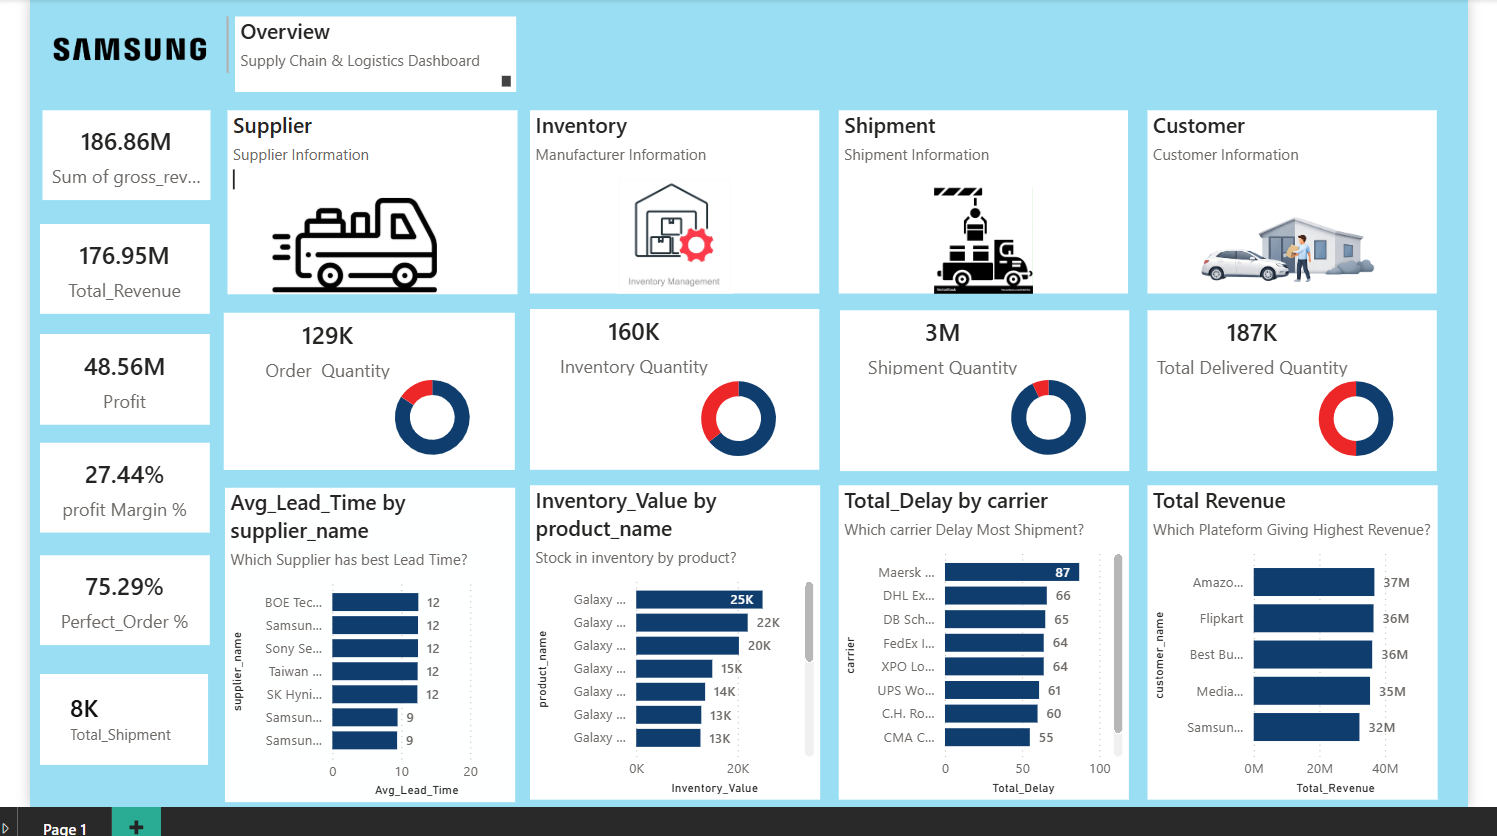

This screenshot's page, from the dashboard's own definition file:
{"tool":"powerbi","page":{"name":"Page 1","canvas":[1280,720],"ordinal":0},"visuals":[{"type":"textbox","title":"Supplier","box":[175.5,99.4,257.7,163.2],"z":1000},{"type":"textbox","title":"Inventory","box":[445.4,99.4,257.7,163.2],"z":2000},{"type":"textbox","title":"Shipment","box":[720.2,99.4,257.7,163.2],"z":3000},{"type":"textbox","title":"Customer","box":[995.1,99.4,257.7,163.2],"z":4000},{"type":"textbox","title":"Overview","box":[182.8,16,250.3,67.5],"z":5000},{"type":"shape","box":[150.9,16,49.1,50.3],"z":6000},{"type":"card","fields":{"Values":["MeasuresTable.Total_Revenue"]},"box":[8.6,200,150.9,79.8],"z":7000},{"type":"card","fields":{"Values":["MeasuresTable.Profit"]},"box":[8.6,298.2,150.9,81],"z":8000},{"type":"card","fields":{"Values":["MeasuresTable.profit Margin %"]},"box":[8.6,395.1,150.9,79.8],"z":9000},{"type":"card","fields":{"Values":["MeasuresTable.Perfect_Order %"]},"box":[8.6,495.7,150.9,79.8],"z":10000},{"type":"cardVisual","fields":{"Data":["Measure.Total_Shipment"]},"box":[8.6,601.2,149.7,81],"z":11000},{"type":"shape","box":[173,279.8,258.9,139.9],"z":12000},{"type":"clusteredBarChart","fields":{"Y":["MeasuresTable.Avg_Lead_Time"],"Category":["dim_supplier.supplier_name"]},"box":[173.3,435,258.3,280],"z":13000},{"type":"clusteredBarChart","fields":{"Y":["MeasuresTable.Inventory_Value"],"Category":["dim_product.product_name"]},"box":[445,433.3,258,280],"z":14000},{"type":"clusteredBarChart","fields":{"Y":["MeasuresTable.Total_Delay"],"Category":["fact_shipment.carrier"]},"box":[720,433.3,258,280],"z":15000},{"type":"shape","box":[995.1,277.3,257.7,143.6],"z":16000},{"type":"clusteredBarChart","title":"Total Revenue","fields":{"Category":["dim_customer.customer_name"],"Y":["MeasuresTable.Total_Revenue"]},"box":[995,433.3,258,280],"z":17000},{"type":"card","fields":{"Values":["MeasuresTable.Total_Delivered_Quantity"]},"box":[995.1,277.3,186.5,63.8],"z":18000},{"type":"card","fields":{"Values":["MeasuresTable.Order_QTY"]},"box":[173,279.8,185.3,63.8],"z":19000},{"type":"shape","box":[445.4,276.1,257.7,143.6],"z":20000},{"type":"card","fields":{"Values":["MeasuresTable.Inventory_Value"]},"box":[445.4,276.1,185.3,63.8],"z":21000},{"type":"shape","box":[721.5,277.3,257.7,143.6],"z":22000},{"type":"card","fields":{"Values":["MeasuresTable.Total_Shipment_Quantity"]},"box":[720.2,277.3,185.3,62.6],"z":23000},{"type":"donutChart","fields":{"Y":["MeasuresTable.Inventory_Value","MeasuresTable.Safty_Stock"]},"box":[558.3,327.6,144.8,93.3],"z":24000},{"type":"donutChart","fields":{"Y":["MeasuresTable.Total_Shipment","MeasuresTable.Total_Delay"]},"box":[834.4,326.4,144.8,93.3],"z":25000},{"type":"donutChart","fields":{"Y":["MeasuresTable.Order_QTY","MeasuresTable.Defect_Rate"]},"box":[285.9,326.4,144.8,93.3],"z":26000},{"type":"donutChart","fields":{"Y":["Measure.Total_Delivered_Quantity","Measure.Total_QTY_Delay"]},"box":[1109.2,327.6,144.8,93.3],"z":27000},{"type":"card","fields":{"Values":["Sum(fact_sales.gross_revenue)"]},"box":[11,99.4,149.7,79.8],"z":28000},{"type":"image","box":[216,174.2,146,88.3],"z":29000},{"type":"image","box":[461.4,159.5,227,103.1],"z":30000},{"type":"image","box":[774.2,168.1,148.5,94.5],"z":31000},{"type":"image","box":[1036.8,174.2,175.5,92],"z":32000},{"type":"image","box":[9.8,16,150.9,57.7],"z":33000}]}

Visuals, with their boxes on the page's 1280x720 design canvas (x1, y1, x2, y2). These are canvas units, not pixel positions in the 1497x836 screenshot, which may show the page scaled, cropped or inside an application window:
"Supplier" textbox: x1=176 y1=99 x2=433 y2=263
"Inventory" textbox: x1=445 y1=99 x2=703 y2=263
"Shipment" textbox: x1=720 y1=99 x2=978 y2=263
"Customer" textbox: x1=995 y1=99 x2=1253 y2=263
"Overview" textbox: x1=183 y1=16 x2=433 y2=84
shape: x1=151 y1=16 x2=200 y2=66
card - MeasuresTable.Total_Revenue: x1=9 y1=200 x2=160 y2=280
card - MeasuresTable.Profit: x1=9 y1=298 x2=160 y2=379
card - MeasuresTable.profit Margin %: x1=9 y1=395 x2=160 y2=475
card - MeasuresTable.Perfect_Order %: x1=9 y1=496 x2=160 y2=576
cardVisual - Measure.Total_Shipment: x1=9 y1=601 x2=158 y2=682
shape: x1=173 y1=280 x2=432 y2=420
clusteredBarChart - MeasuresTable.Avg_Lead_Time x dim_supplier.supplier_name: x1=173 y1=435 x2=432 y2=715
clusteredBarChart - MeasuresTable.Inventory_Value x dim_product.product_name: x1=445 y1=433 x2=703 y2=713
clusteredBarChart - MeasuresTable.Total_Delay x fact_shipment.carrier: x1=720 y1=433 x2=978 y2=713
shape: x1=995 y1=277 x2=1253 y2=421
"Total Revenue" clusteredBarChart: x1=995 y1=433 x2=1253 y2=713
card - MeasuresTable.Total_Delivered_Quantity: x1=995 y1=277 x2=1182 y2=341
card - MeasuresTable.Order_QTY: x1=173 y1=280 x2=358 y2=344
shape: x1=445 y1=276 x2=703 y2=420
card - MeasuresTable.Inventory_Value: x1=445 y1=276 x2=631 y2=340
shape: x1=722 y1=277 x2=979 y2=421
card - MeasuresTable.Total_Shipment_Quantity: x1=720 y1=277 x2=906 y2=340
donutChart - MeasuresTable.Inventory_Value x MeasuresTable.Safty_Stock: x1=558 y1=328 x2=703 y2=421
donutChart - MeasuresTable.Total_Shipment x MeasuresTable.Total_Delay: x1=834 y1=326 x2=979 y2=420
donutChart - MeasuresTable.Order_QTY x MeasuresTable.Defect_Rate: x1=286 y1=326 x2=431 y2=420
donutChart - Measure.Total_Delivered_Quantity x Measure.Total_QTY_Delay: x1=1109 y1=328 x2=1254 y2=421
card - Sum(fact_sales.gross_revenue): x1=11 y1=99 x2=161 y2=179
image: x1=216 y1=174 x2=362 y2=262
image: x1=461 y1=160 x2=688 y2=263
image: x1=774 y1=168 x2=923 y2=263
image: x1=1037 y1=174 x2=1212 y2=266
image: x1=10 y1=16 x2=161 y2=74
